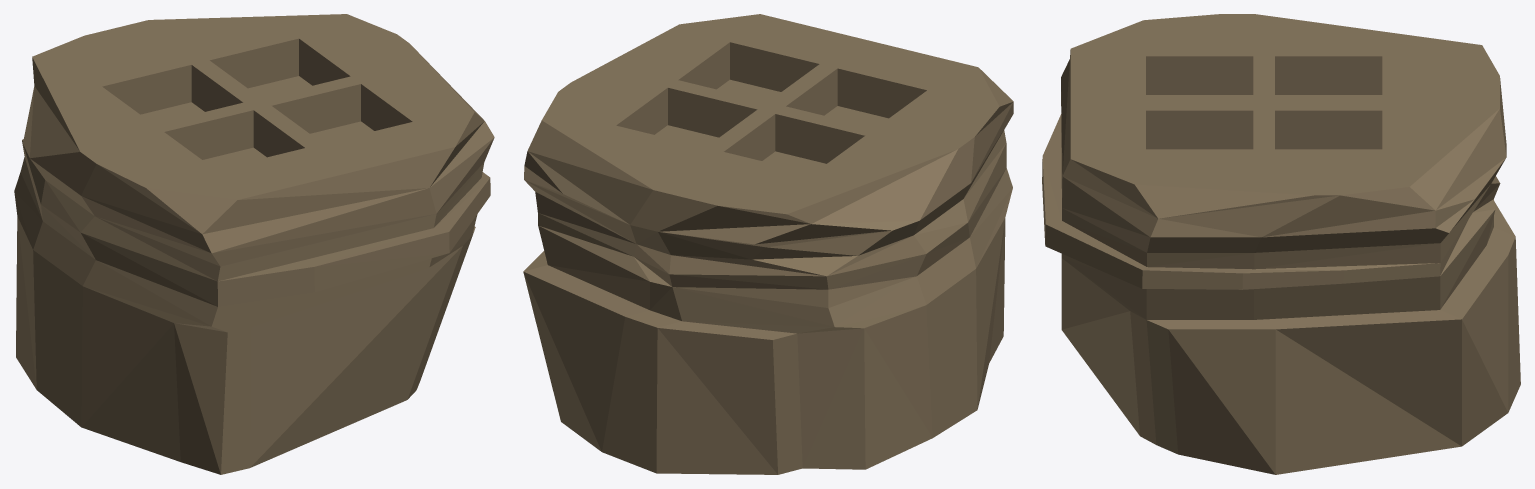
Rendered from rock_desktop.bd64408b.dae.
3 views of the same model, side by side, from view 1: azimuth 30°, elevation 25°; view 2: azimuth 150°, elevation 25°; view 3: azimuth 270°, elevation 25° (orthographic). The views are drawn at different scales.
Parts seen in each view (by area): view 1: Cube_031; view 2: Cube_031; view 3: Cube_031.
Boxes of the visible parts, x1=… form: Cube_031: x1=14, y1=14, x2=494, y2=474; Cube_031: x1=523, y1=14, x2=1013, y2=474; Cube_031: x1=1042, y1=14, x2=1520, y2=474.
Bounding box in the file's own units: 2.08 × 2.23 × 1.48.
